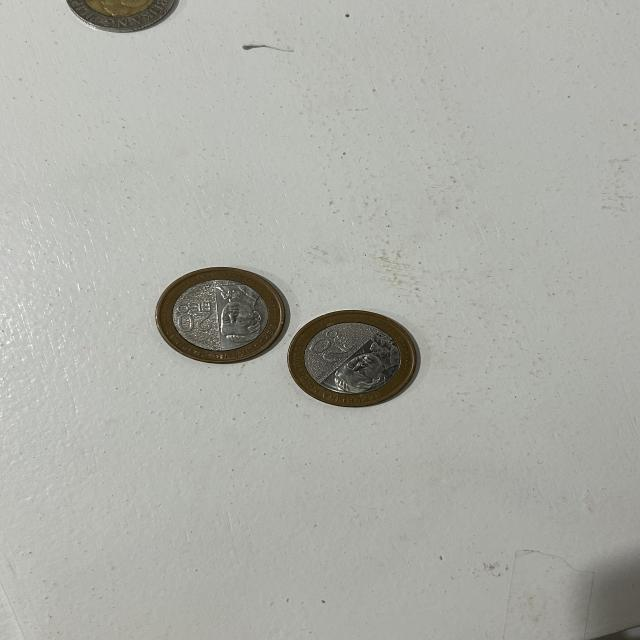20_New_Front: (312, 327, 359, 368), (175, 302, 220, 337)
